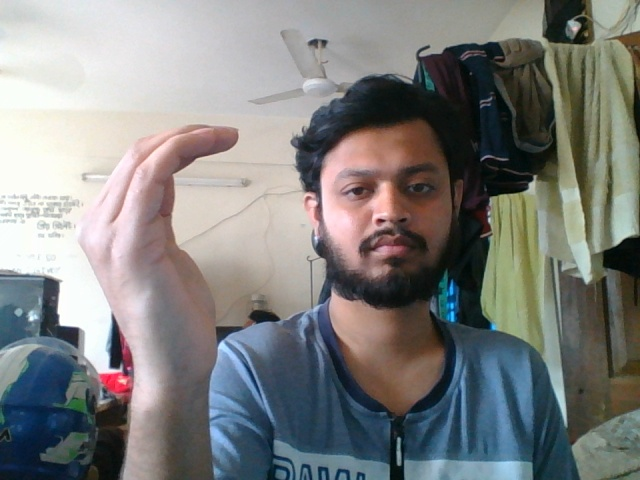ga: (72, 116, 246, 467)
